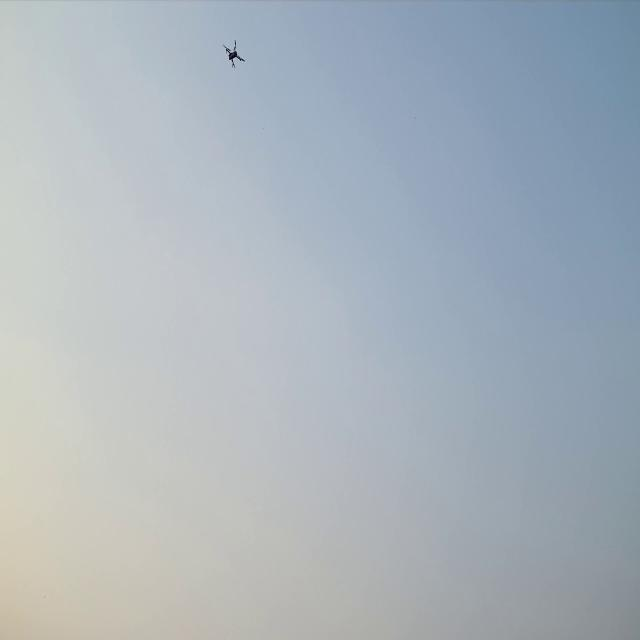UAV: (222, 39, 246, 69)
